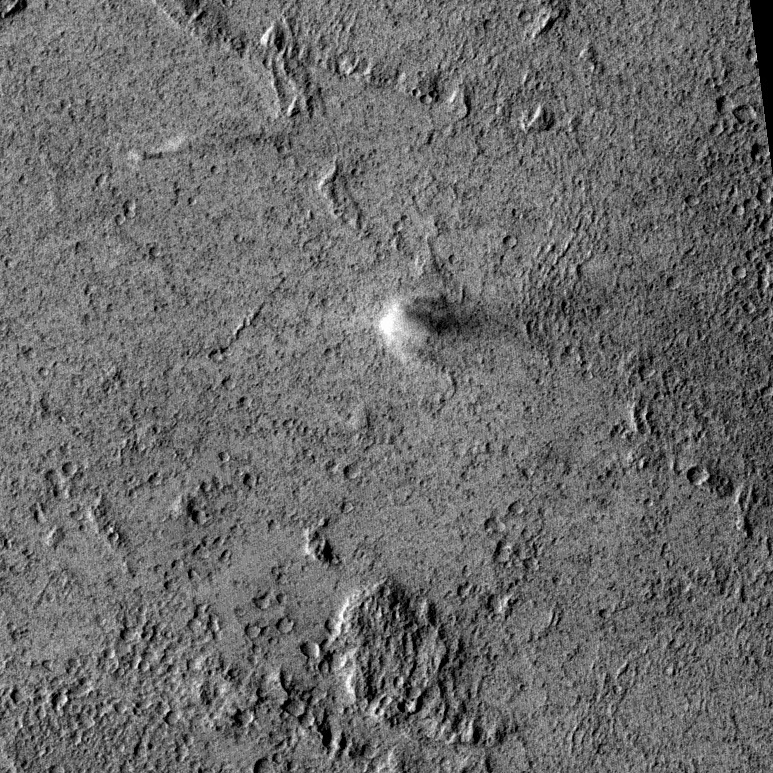dust_devil: (375, 283, 602, 372)
